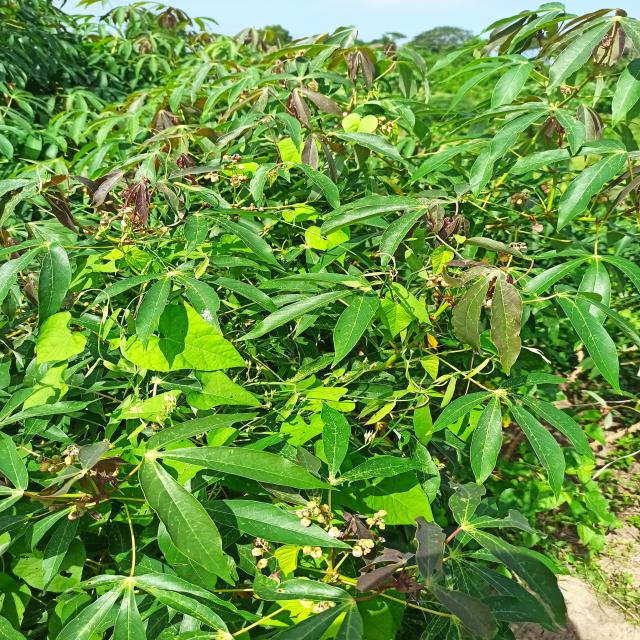Maleza: (137, 321, 245, 382), (348, 486, 424, 533), (291, 371, 353, 421), (296, 211, 347, 240)
Mosaico: (455, 259, 530, 371)
